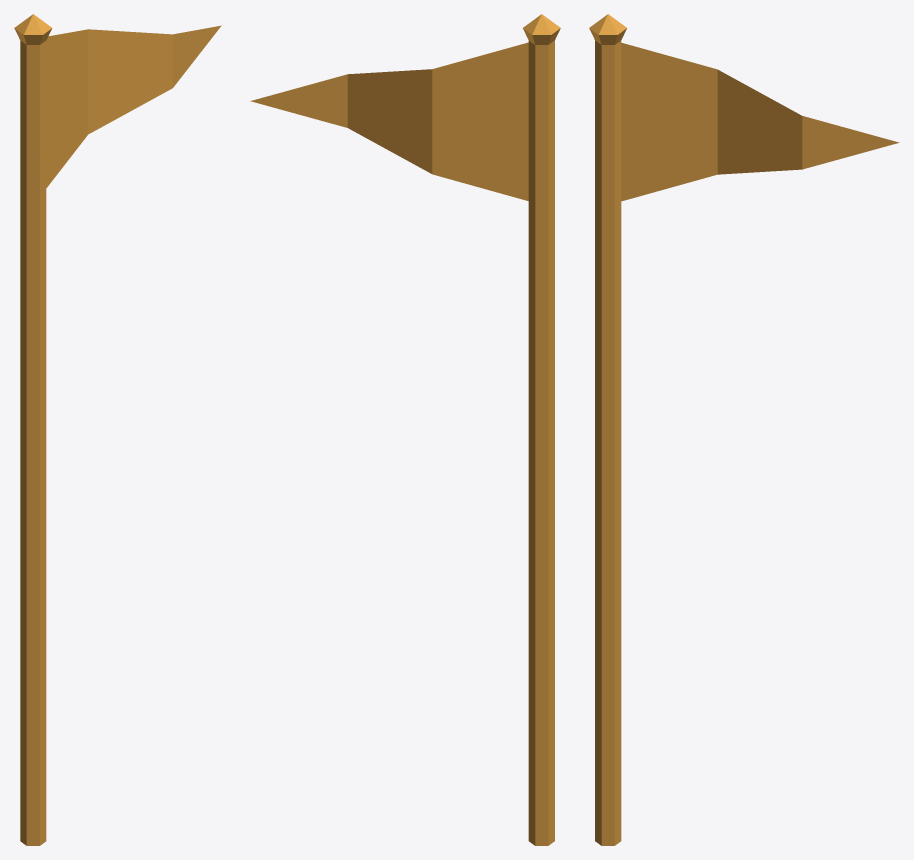
The model's file is flag-golf.glb.
3 renders of one model, left to right at view 1: azimuth 30°, elevation 25°; view 2: azimuth 150°, elevation 25°; view 3: azimuth 330°, elevation 25°, orthographic.
Visible parts, largest first — view 1: flag-golf; view 2: flag-golf; view 3: flag-golf.
Part boxes in pixels (bbox=[...]): flag-golf: bbox=[14, 14, 221, 845]; flag-golf: bbox=[250, 14, 560, 845]; flag-golf: bbox=[589, 14, 899, 845].
Size of the model in its own units: 0.6649 by 2.07 by 0.2771.
